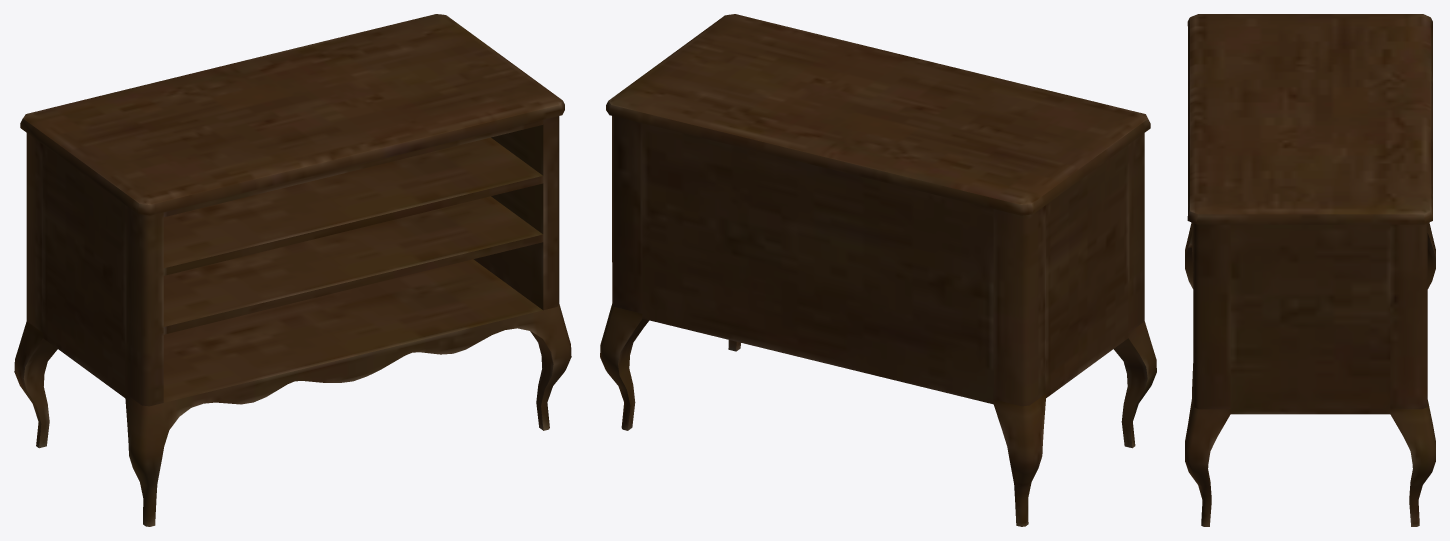
The model's file is SM_commode_f3e1dc.glb.
The picture shows the model from 3 angles, left to right: view 1: azimuth 30°, elevation 25°; view 2: azimuth 150°, elevation 25°; view 3: azimuth 270°, elevation 25°; orthographic projection. The views are drawn at different scales.
Size of the model in its own units: 1.01 by 0.7374 by 0.5245.
1 material, 1 textured.
